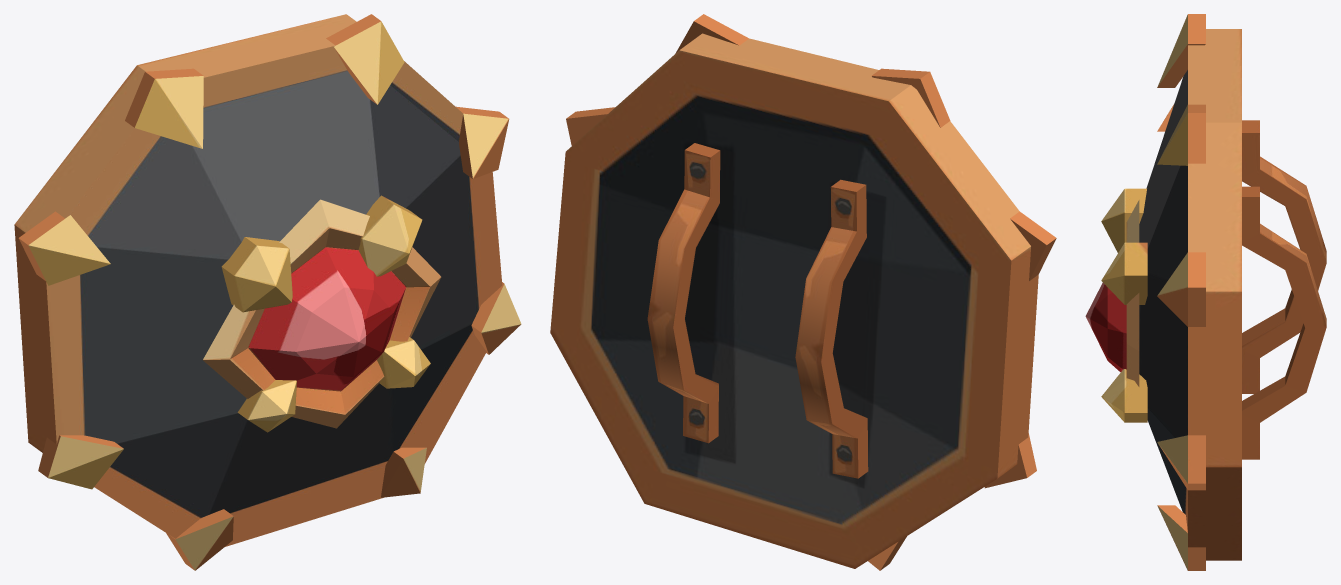
Rendered from Crazy_05.FBX.
3 renders of one model, left to right at view 1: azimuth 30°, elevation 25°; view 2: azimuth 150°, elevation 25°; view 3: azimuth 270°, elevation 25°, orthographic. The views are drawn at different scales.
Visible parts, largest first — view 1: Crazy_05; view 2: Crazy_05; view 3: Crazy_05.
Part boxes in pixels (x1,y1,x2,y2): Crazy_05: (14, 14, 521, 570); Crazy_05: (550, 14, 1056, 570); Crazy_05: (1085, 14, 1326, 570).
Size of the model in its own units: 61.55 by 60.15 by 28.49.
